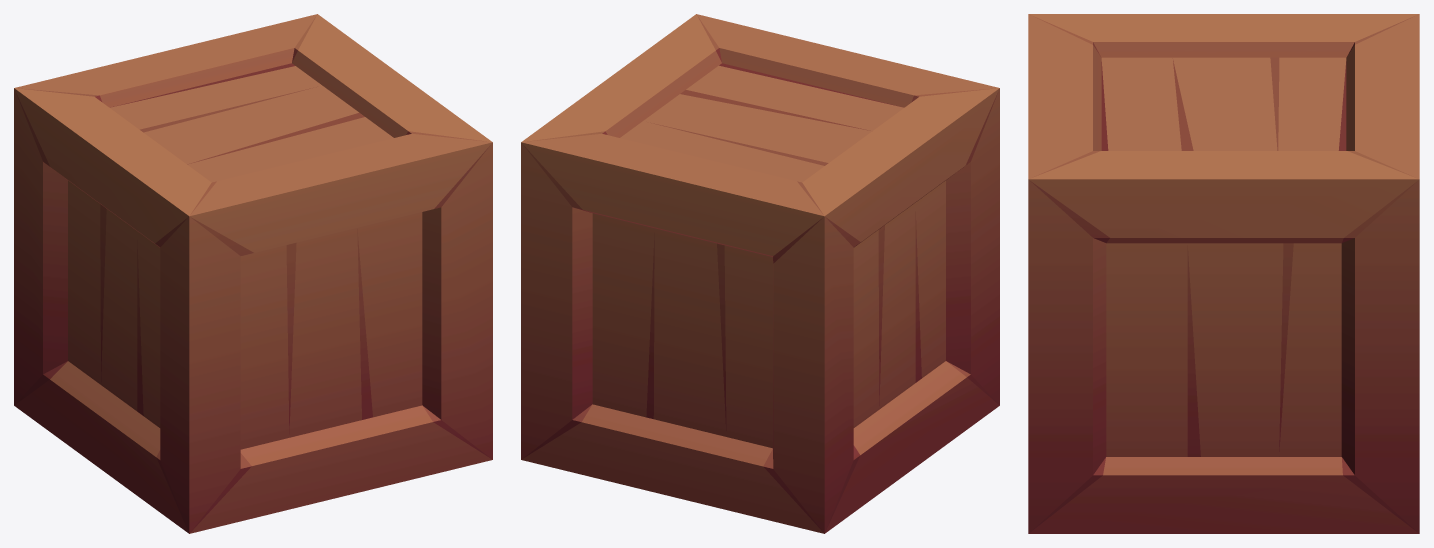
3 renders of one model, left to right at view 1: azimuth 30°, elevation 25°; view 2: azimuth 150°, elevation 25°; view 3: azimuth 270°, elevation 25°, orthographic. The views are drawn at different scales.
Visible parts, largest first — view 1: box_2; view 2: box_2; view 3: box_2.
Part boxes in pixels (box(x1,y1,x2,y2)): box_2: box(14, 14, 492, 533); box_2: box(521, 14, 999, 533); box_2: box(1028, 14, 1419, 533).
Size of the model in its own units: 0.6232 by 0.6232 by 0.6232.
1 material, 1 textured.
